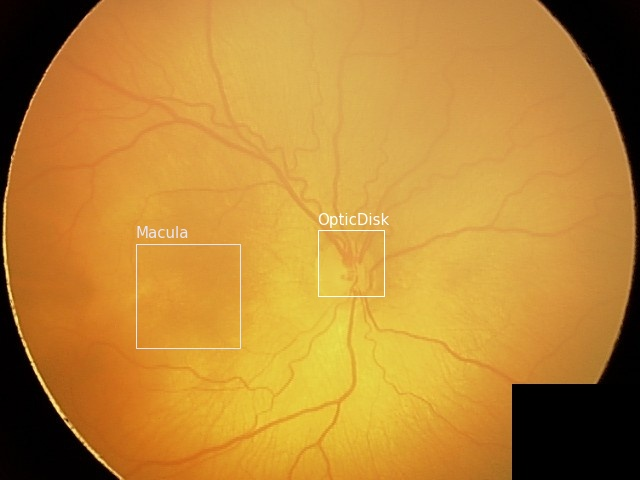Macula: (135, 243, 239, 347)
OpticDisk: (317, 229, 383, 295)
